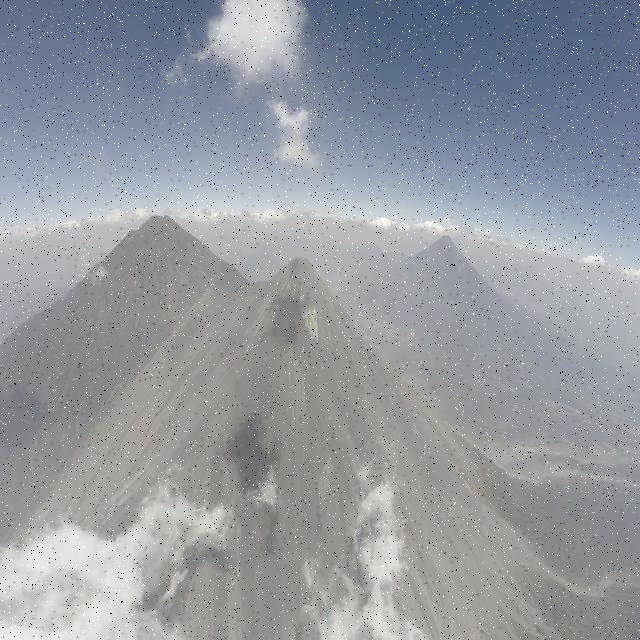Summit: (251, 254, 355, 340)
